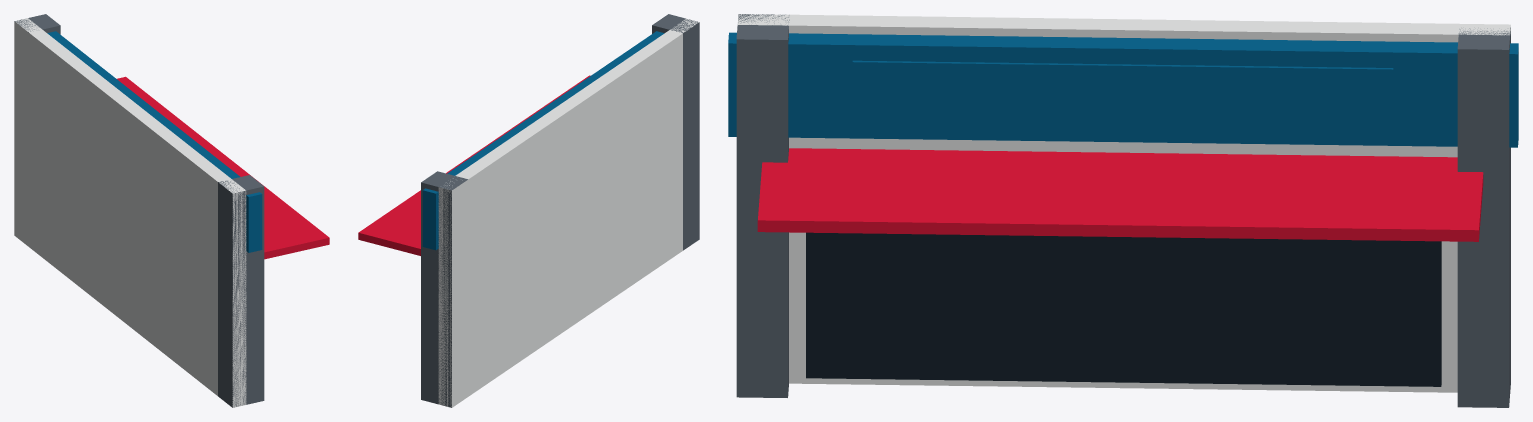
Rendered from dom_rococo.glb.
3 views of the same model, side by side, from view 1: azimuth 30°, elevation 25°; view 2: azimuth 150°, elevation 25°; view 3: azimuth 270°, elevation 25° (orthographic). The views are drawn at different scales.
Parts seen in each view (by area): view 1: dom_rococo_lod0; view 2: dom_rococo_lod0; view 3: dom_rococo_lod0.
Boxes of the visible parts, box(x1,y1,x2,y2) form: dom_rococo_lod0: box(14, 14, 329, 407); dom_rococo_lod0: box(358, 14, 699, 407); dom_rococo_lod0: box(728, 14, 1518, 407).
Size of what is drawn, in the model's own units: 2.58 by 4.6 by 9.2.
